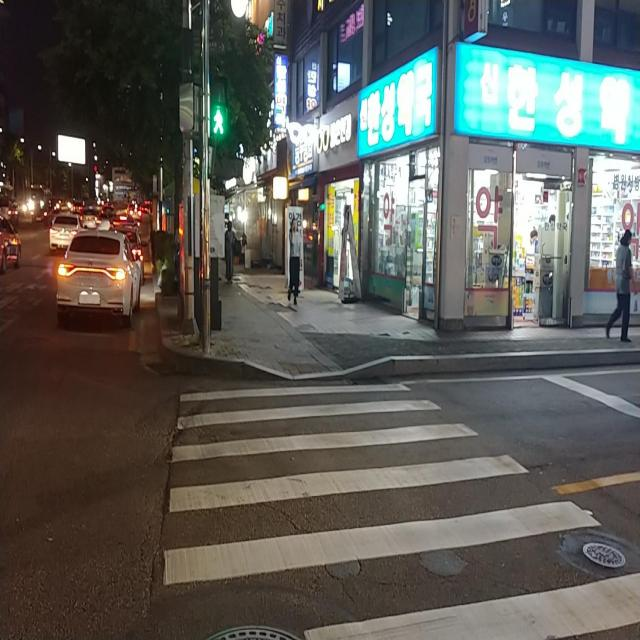초록불: (211, 72, 228, 143)
횡단보도: (161, 380, 640, 640)
